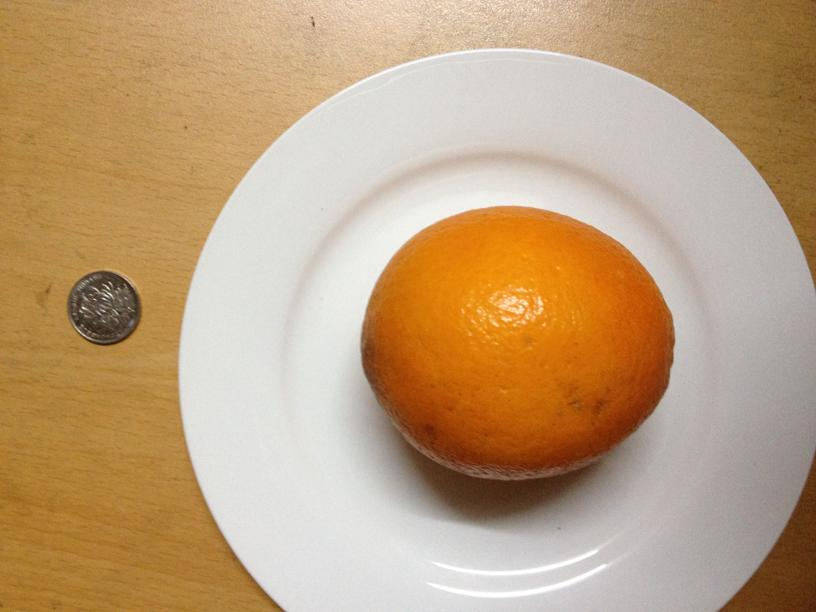coin: (62, 269, 139, 344)
orange: (355, 209, 677, 480)
